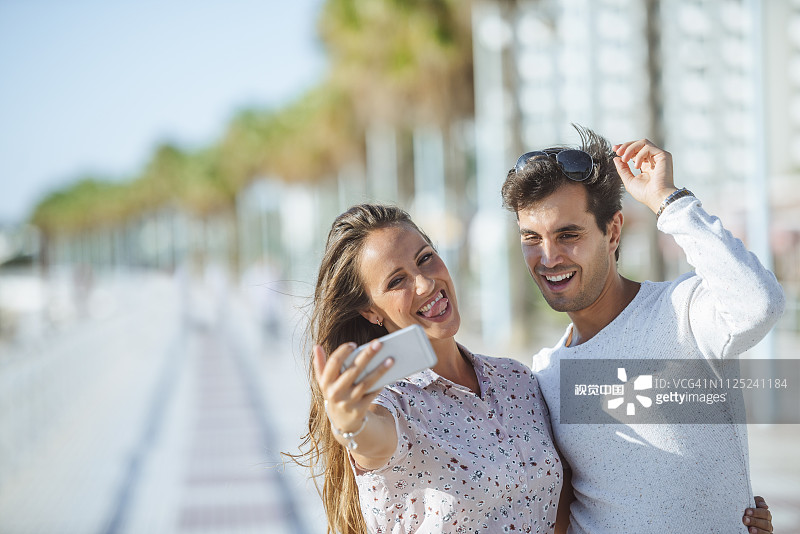no-phone: (598, 120, 686, 224)
taking photos: (299, 316, 423, 443)
